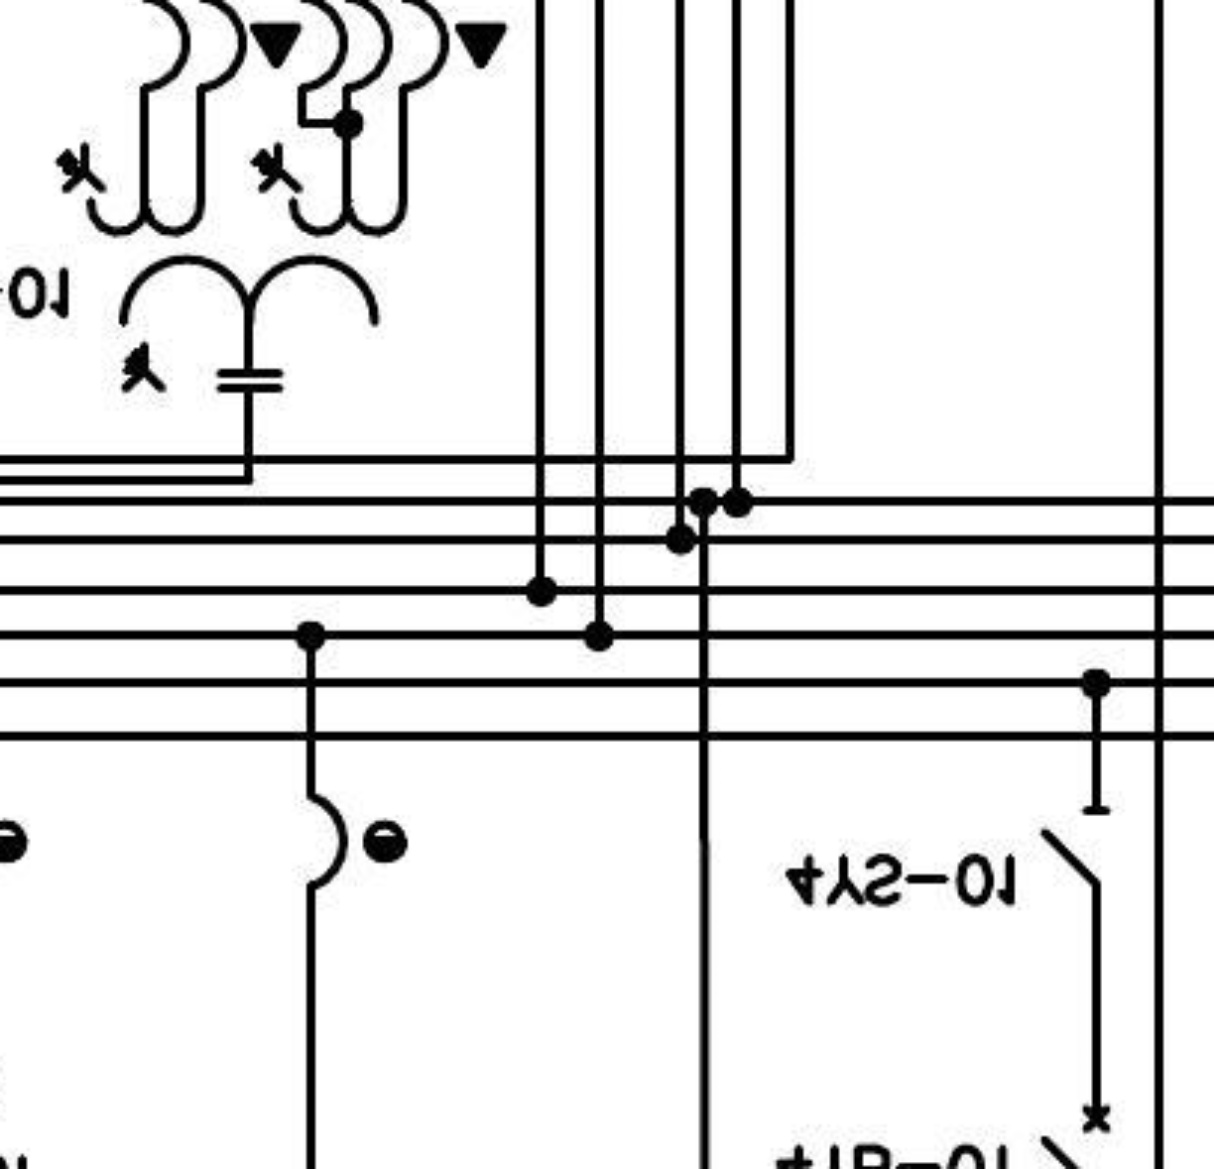115_cvt_3p: (52, 140, 410, 394)
115_ds: (1038, 806, 1114, 889)
